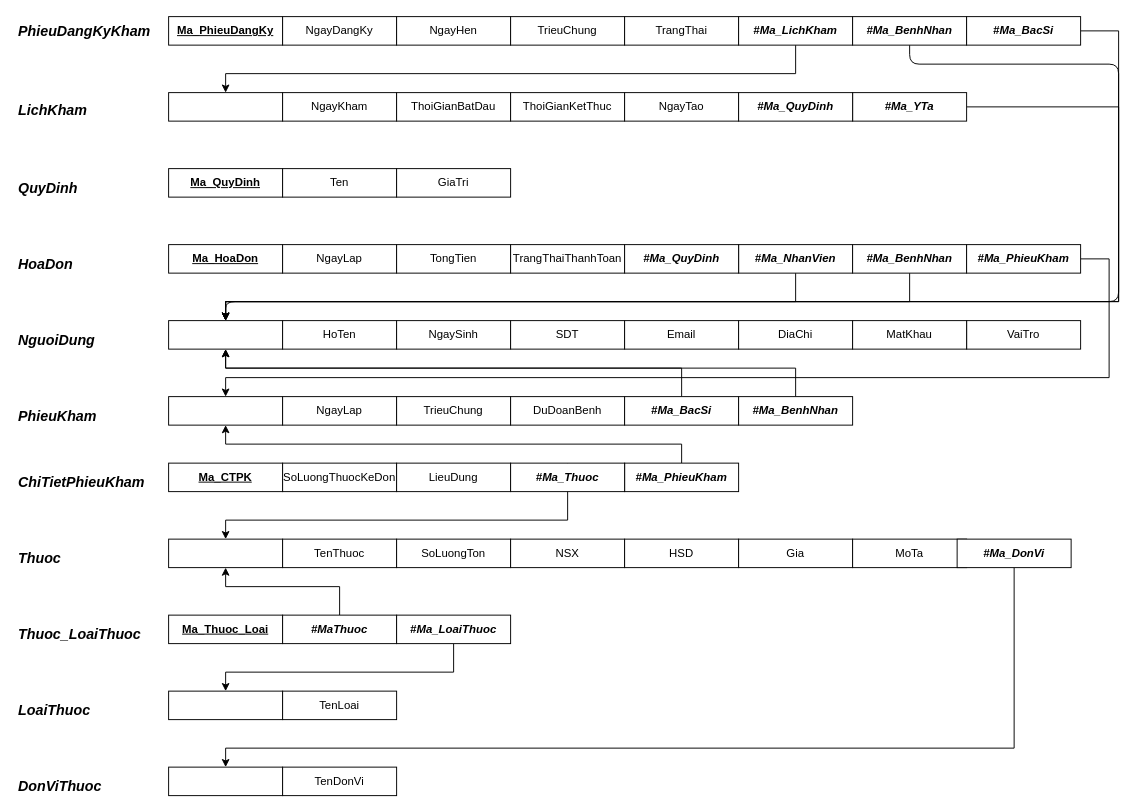
Image size: 1143x812. Some labels were removed from this diagram. The shapes that lost their labels are listed below. From the top down, each one's centre as x and y in pixels, then its label:
the point at 225,106: Ma_LichKham
the point at 225,334: Ma_NguoiDung
the point at 225,410: Ma_PhieuKham
the point at 225,553: Ma_Thuoc
the point at 225,705: Ma_LoaiThuoc
the point at 225,781: Ma_DonVi
